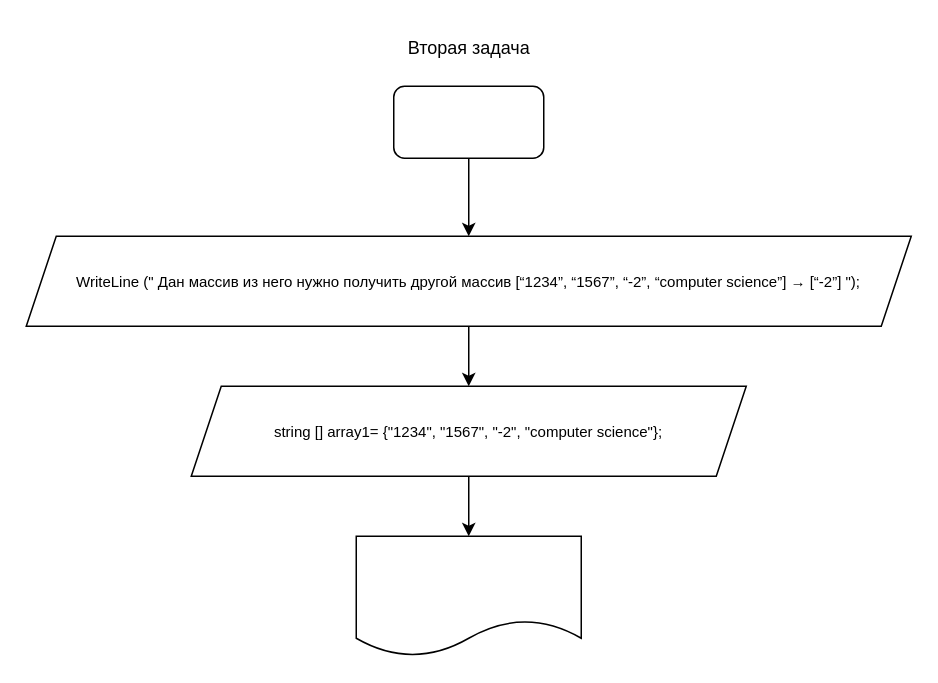
This 938x683 diagram has some shape labels left out. The shapes that lost their labels are listed below. From the top down, each one's centre as x and y in pixels, then its label:
(x=468, y=121): Start
(x=468, y=595): WriteLine($"[ “{array1[2]}” ]");
